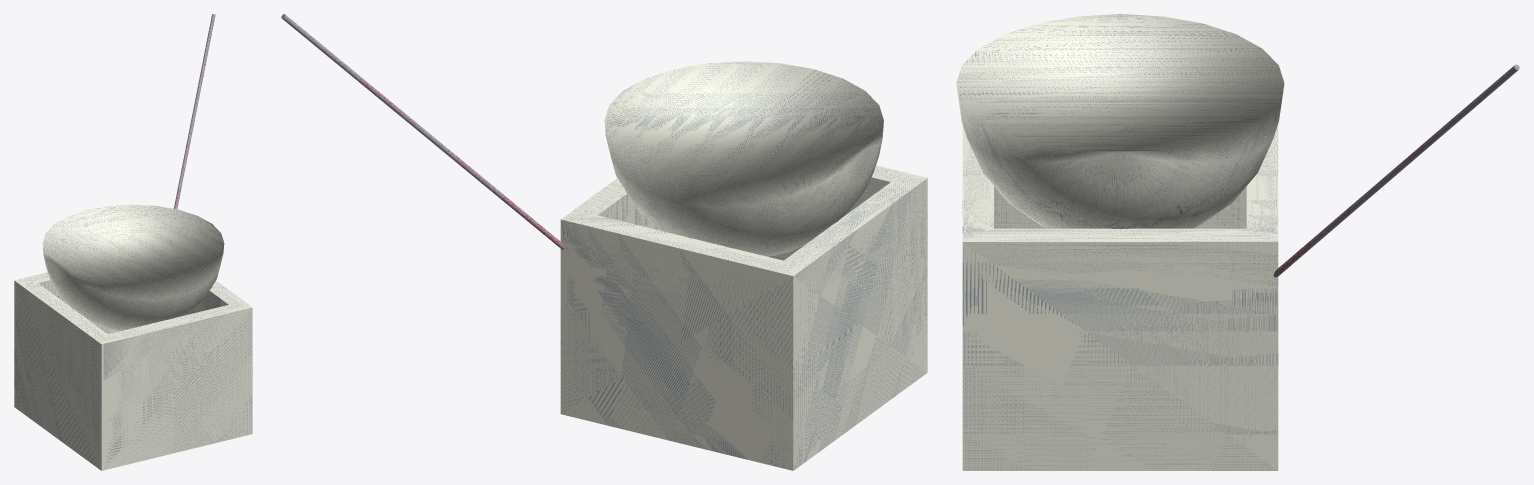
The model's file is 22iso.fbx.
The picture shows the model from 3 angles, left to right: view 1: azimuth 30°, elevation 25°; view 2: azimuth 150°, elevation 25°; view 3: azimuth 270°, elevation 25°; orthographic projection. The views are drawn at different scales.
Parts seen in each view (by area): view 1: Model; view 2: Model; view 3: Model.
Boxes of the visible parts, left/top/right/bottom form: Model: left=14, top=14, right=252, bottom=470; Model: left=281, top=14, right=927, bottom=470; Model: left=956, top=14, right=1519, bottom=470.
Bounding box in the file's own units: 8.93 × 8.9 × 8.93.
